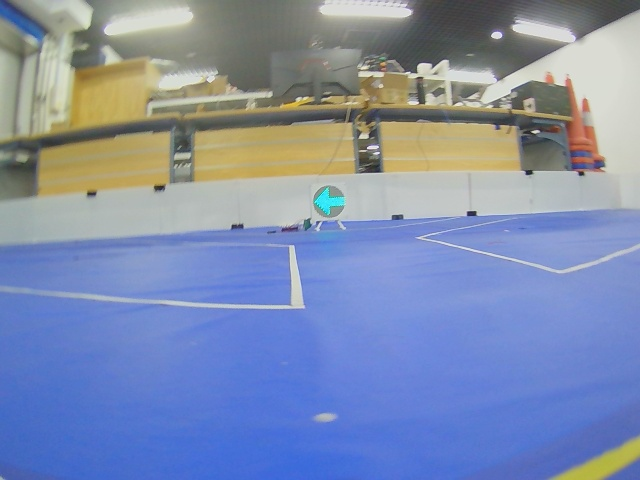left_green: (313, 186, 346, 218)
